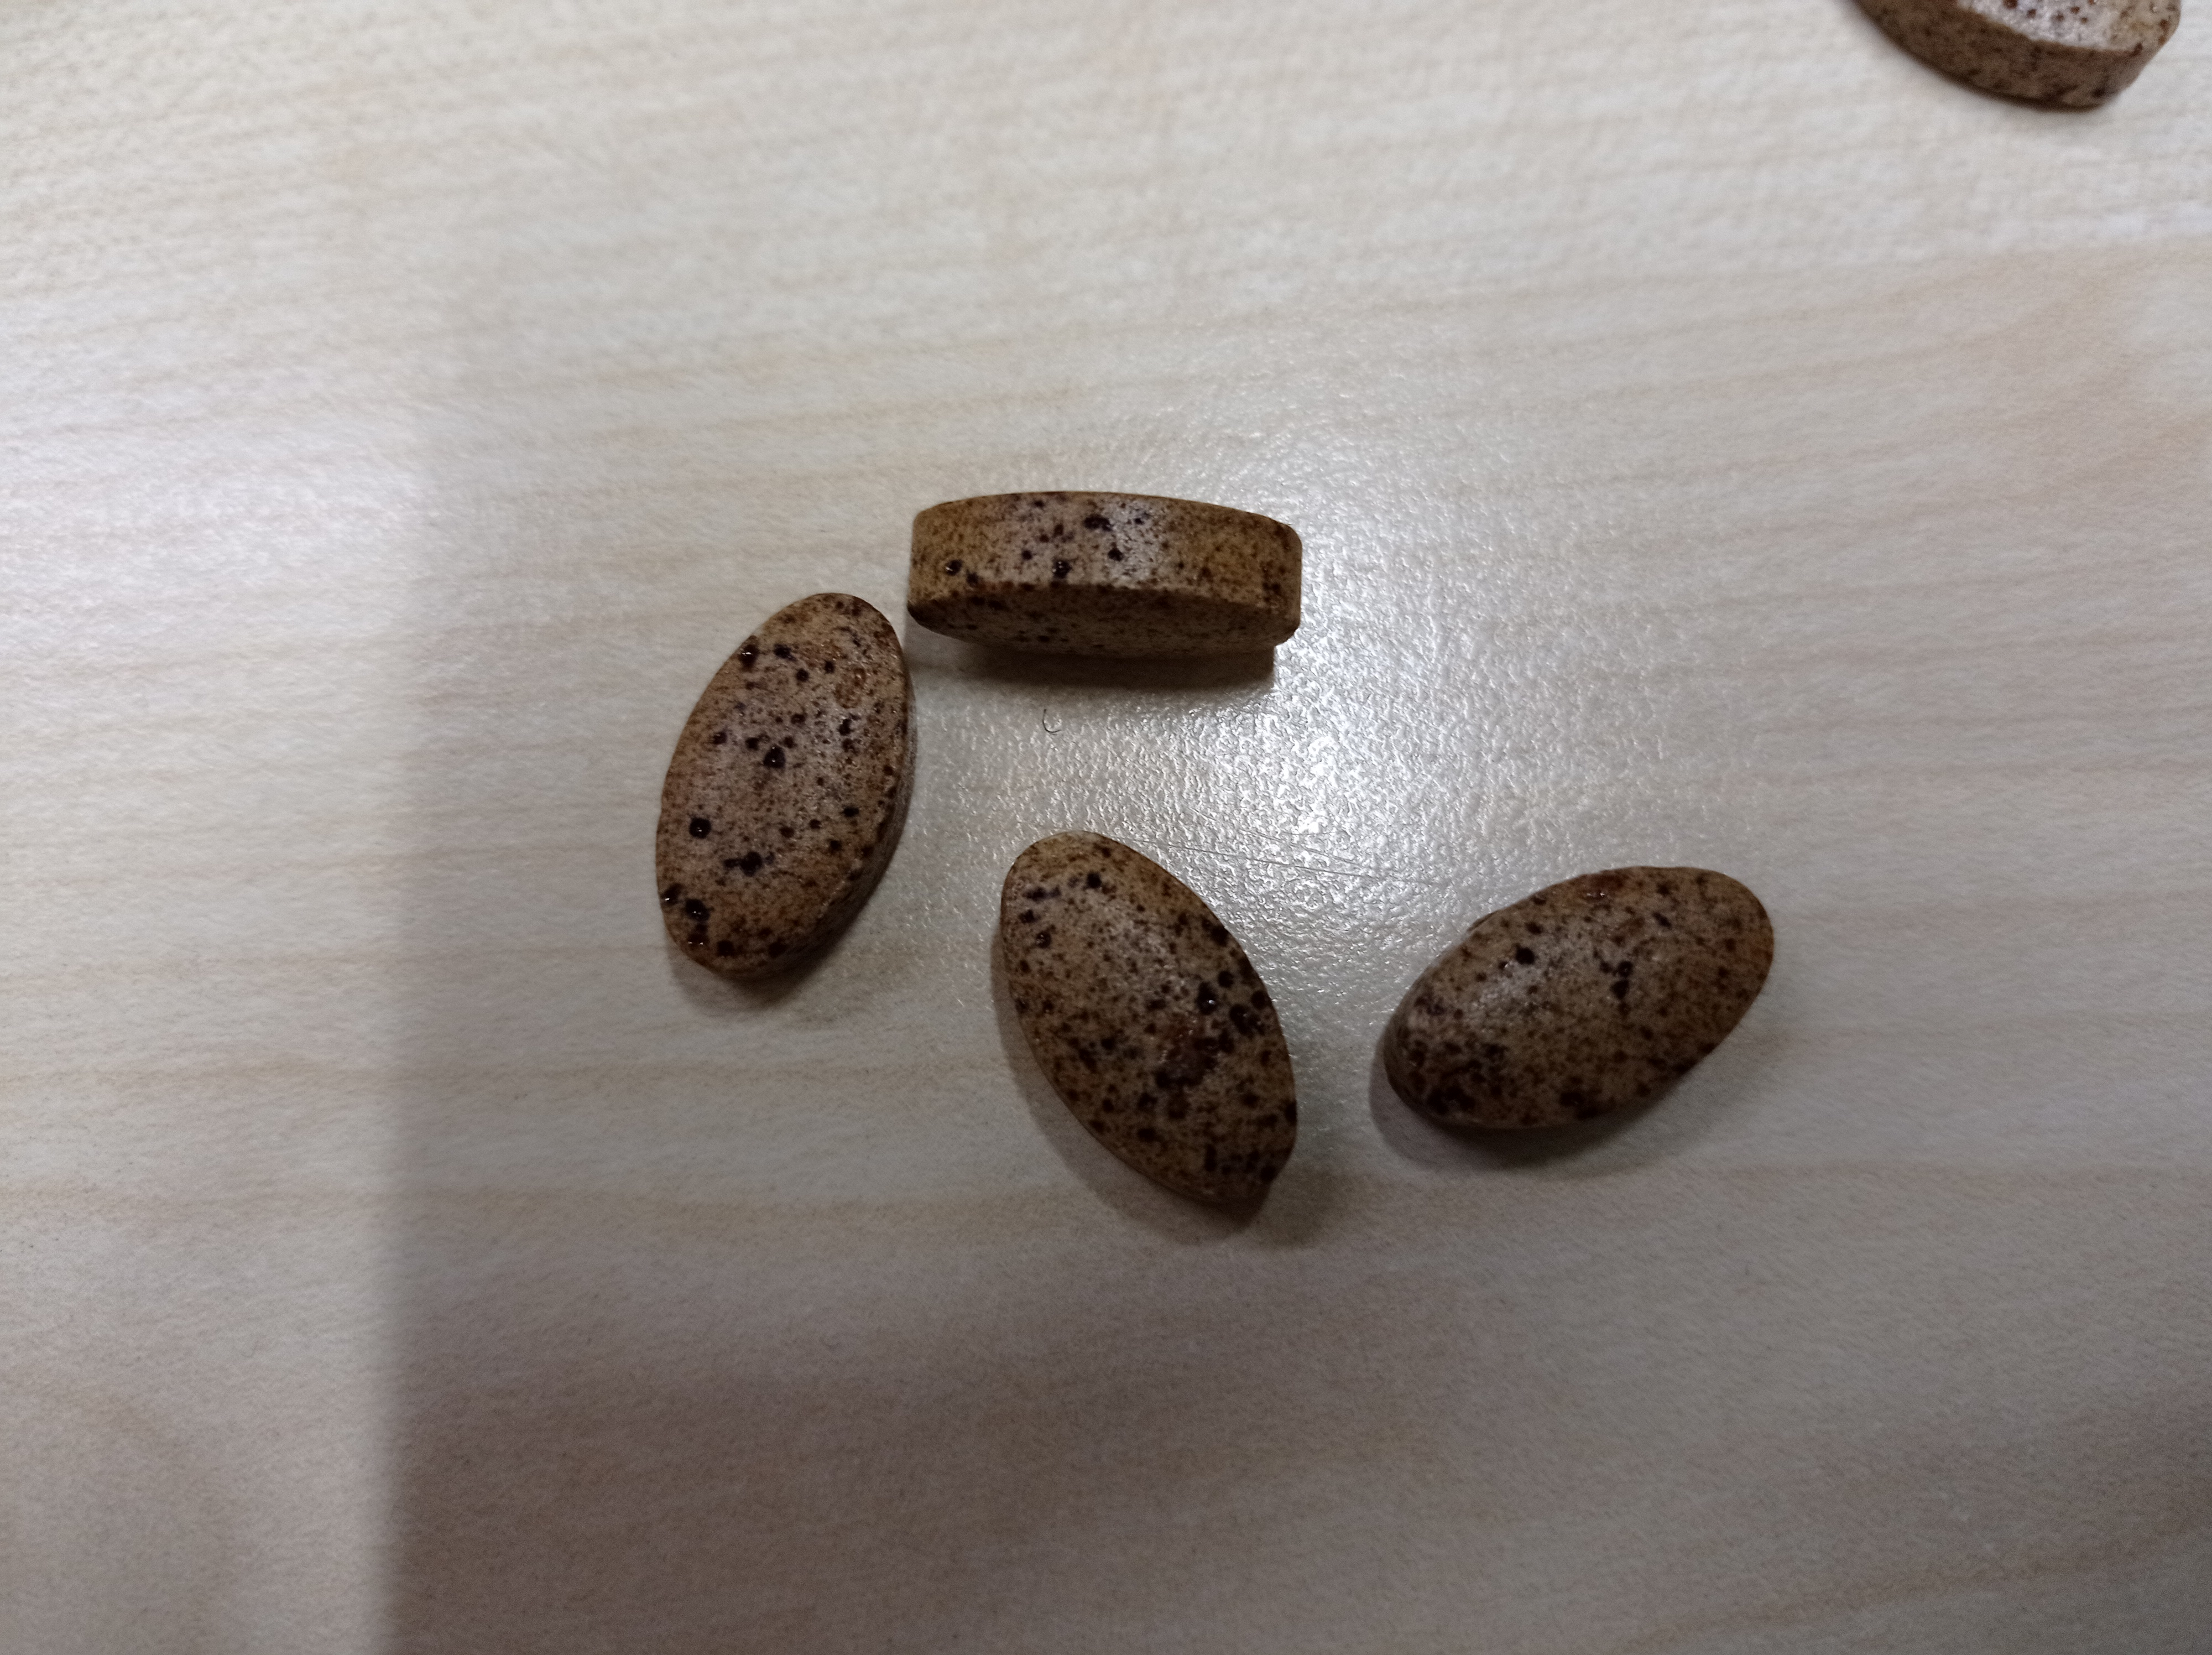brown_medicine: (983, 831, 1302, 1242), (1377, 862, 1772, 1175), (649, 590, 919, 1000), (901, 478, 1310, 656)
